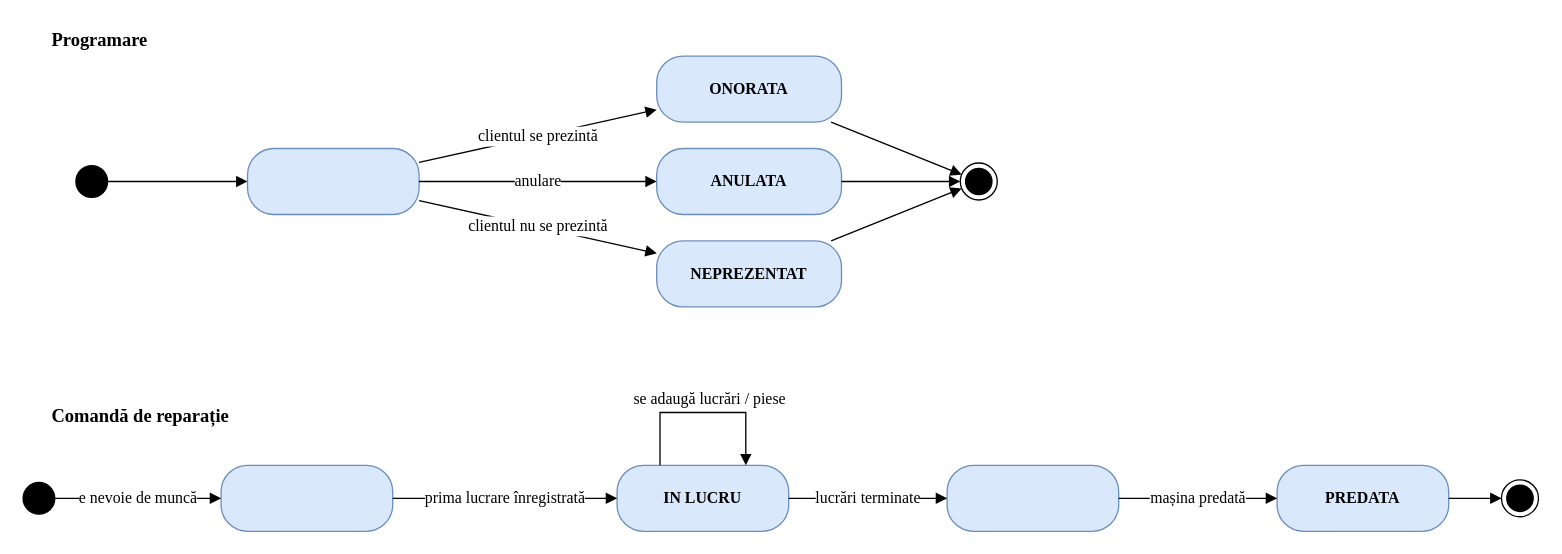
Image size: 1562x554. Some labels were removed from this diagram. The shapes that lost their labels are listed below. From the top down, each one's box as (x1, y1, x2, y2) in pixels, then its label:
(246, 147, 419, 214): PROGRAMATA
(220, 464, 393, 531): DESCHISA
(946, 464, 1119, 531): FINALIZATA
